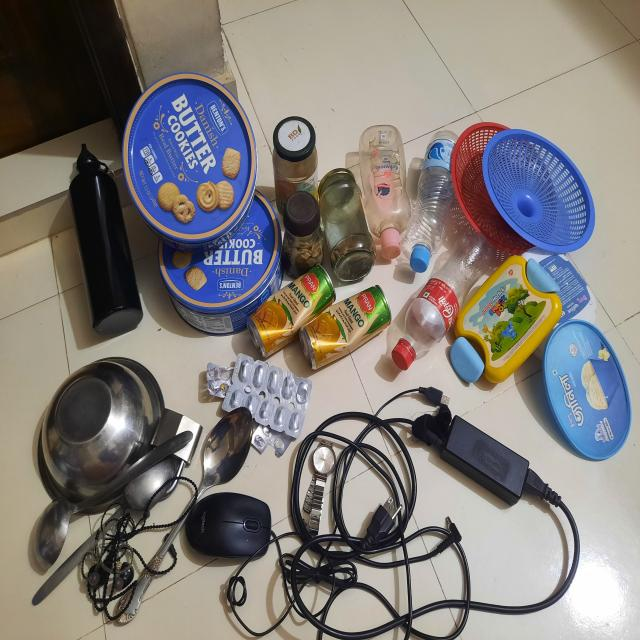Cable: (347, 377, 562, 640), (75, 518, 158, 620)
E-waste: (298, 442, 340, 539)
Medical Waste: (203, 342, 311, 440)
Metal: (11, 337, 211, 528)
Plastics: (369, 100, 633, 444)
can: (65, 99, 272, 325), (282, 269, 389, 371)
